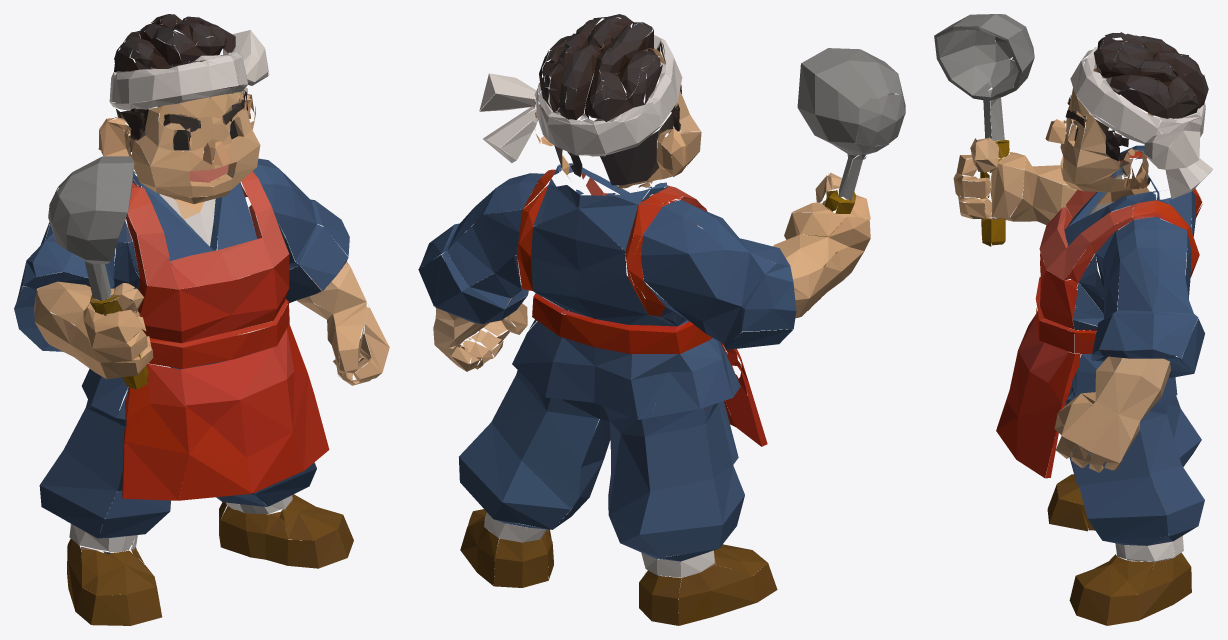
File: fig-vendor.glb
3 views of the same model, side by side, from view 1: azimuth 30°, elevation 25°; view 2: azimuth 150°, elevation 25°; view 3: azimuth 270°, elevation 25° (orthographic). The views are drawn at different scales.
Parts seen in each view (by area): view 1: source; view 2: source; view 3: source.
Boxes of the visible parts, left/top/right/bottom form: source: left=14, top=14, right=389, bottom=625; source: left=418, top=14, right=905, bottom=625; source: left=934, top=14, right=1213, bottom=625.
Bounding box in the file's own units: 0.7379 × 0.9999 × 0.4926.
